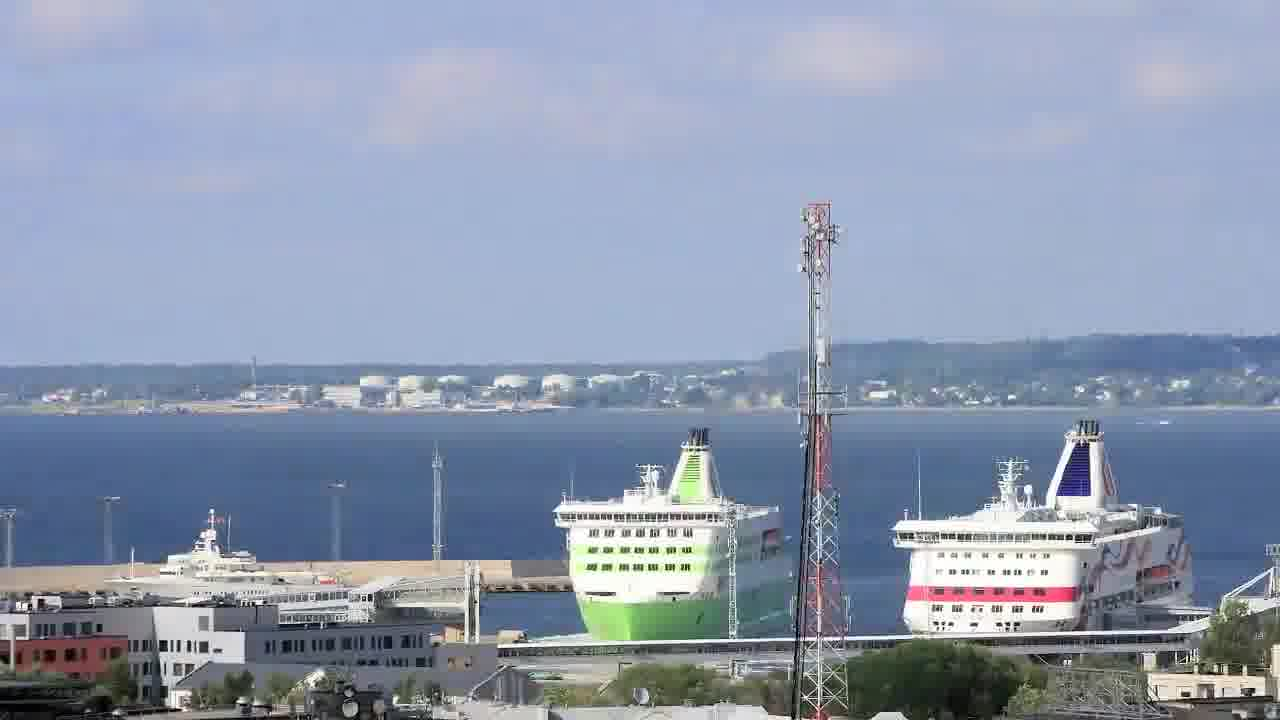type-3: (868, 415, 1225, 638), (526, 429, 797, 670), (84, 511, 353, 609)
